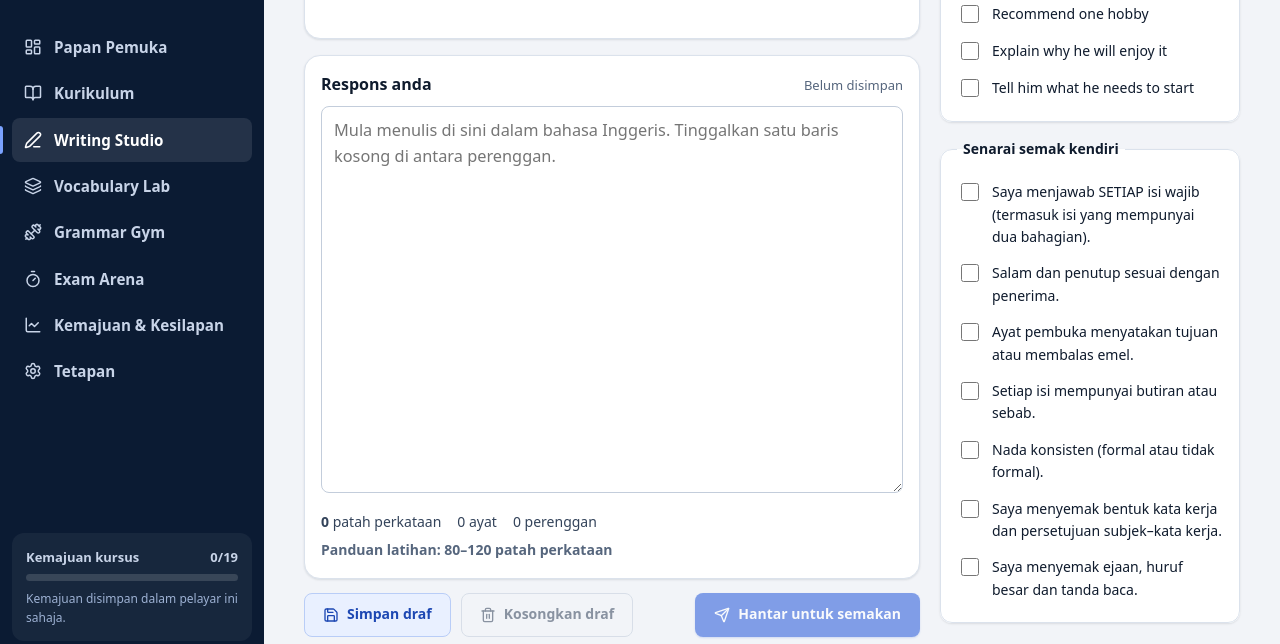
Scenario: writing studio (Flow C/D) › autosaves a draft and restores it after the page is reopened
Later steps or results of the test are not shown.
(page scrolled)
In the text box labelled "Respons anda": {"x": 612, "y": 300} [321,106,903,493], type "Hi Danial, I recommend chess."
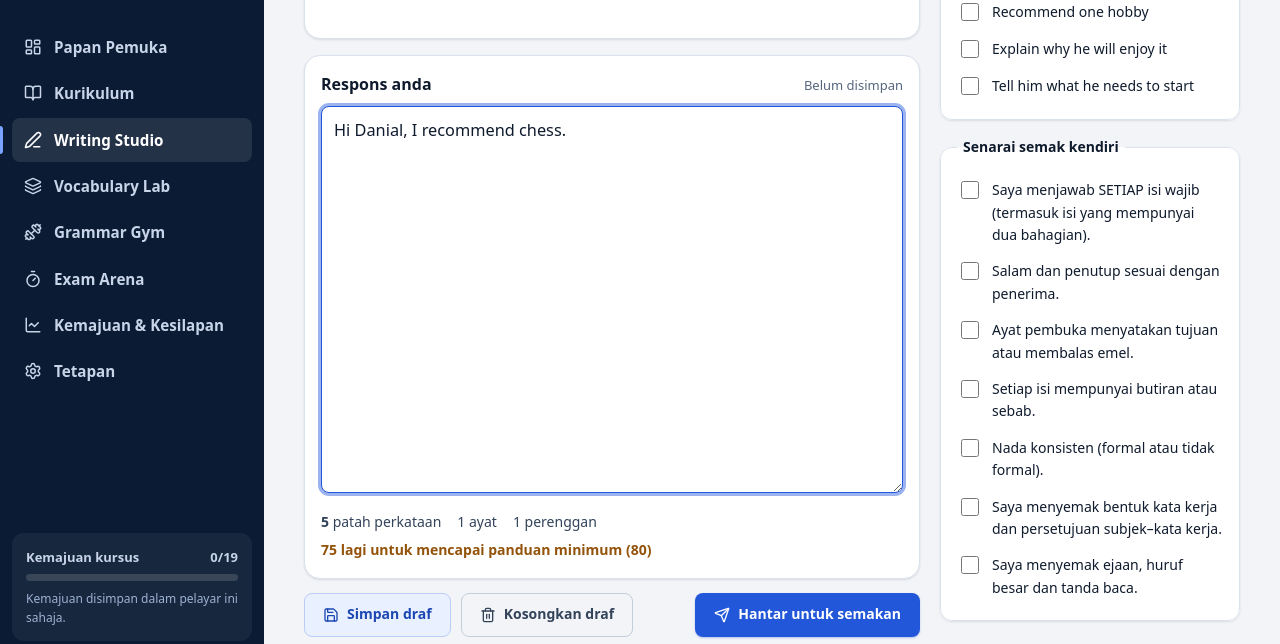
Check: the text "5" is shown, box [321,512,329,531]
